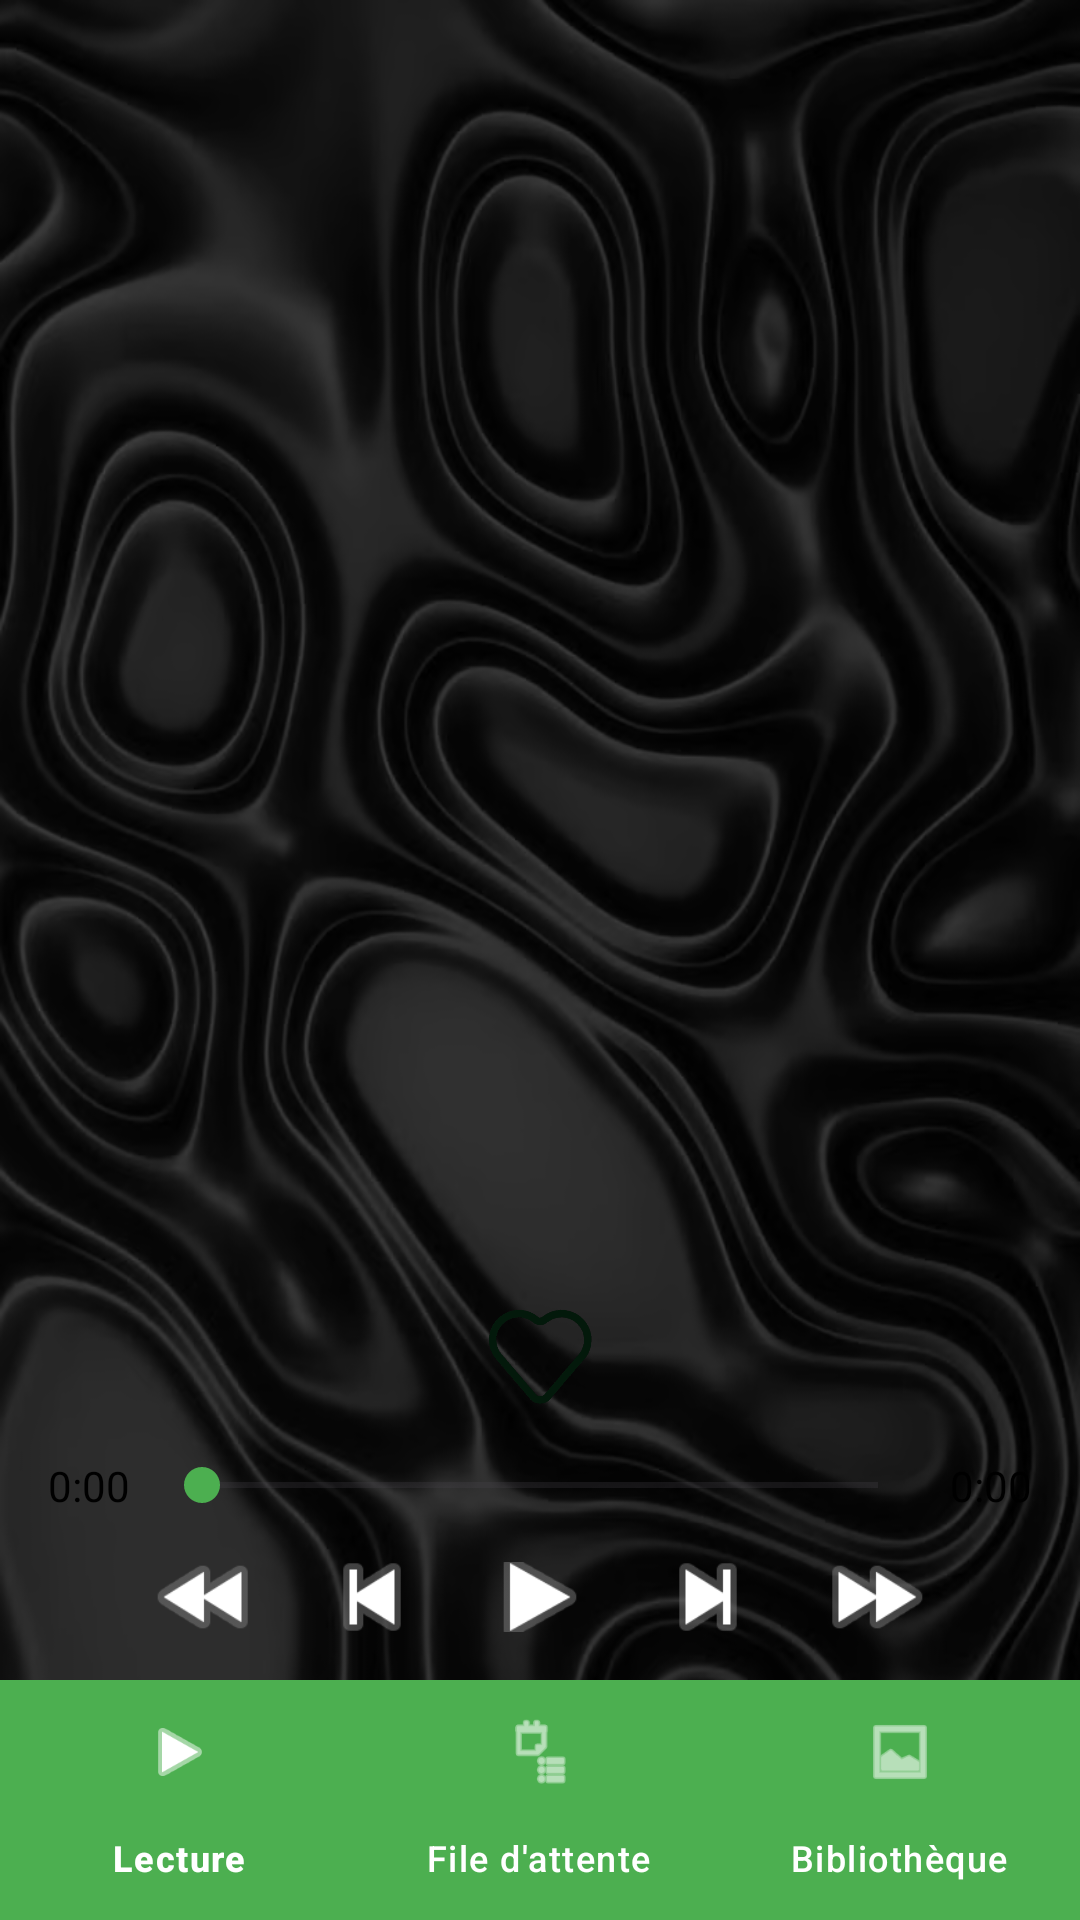

Icon bounding boxes for this 1080 x 1920 phone screenshot, format (x1, y1, x2, y2):
like: (497, 1318, 584, 1396)
